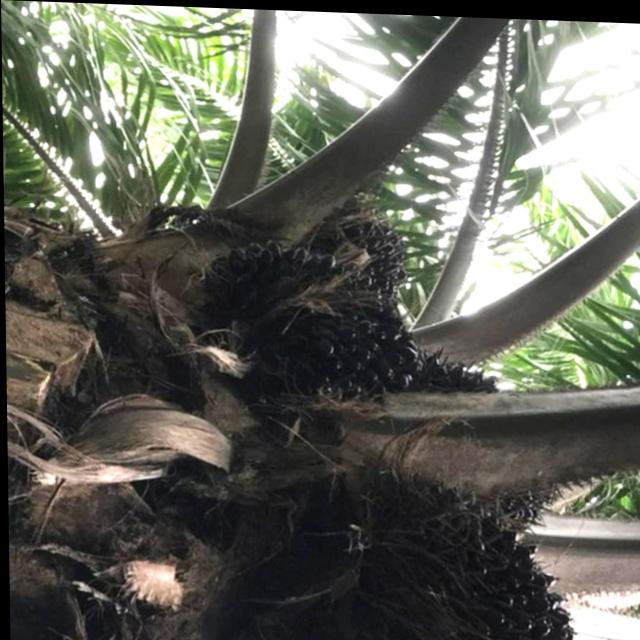almost: (296, 475, 575, 640), (210, 239, 423, 407), (323, 210, 412, 298)
